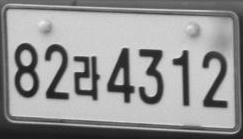1: (169, 49, 198, 106)
2: (201, 50, 228, 108), (44, 43, 69, 100)
3: (138, 48, 164, 104)
4: (106, 47, 135, 103)
8: (14, 42, 40, 98)
라: (73, 55, 100, 101)
